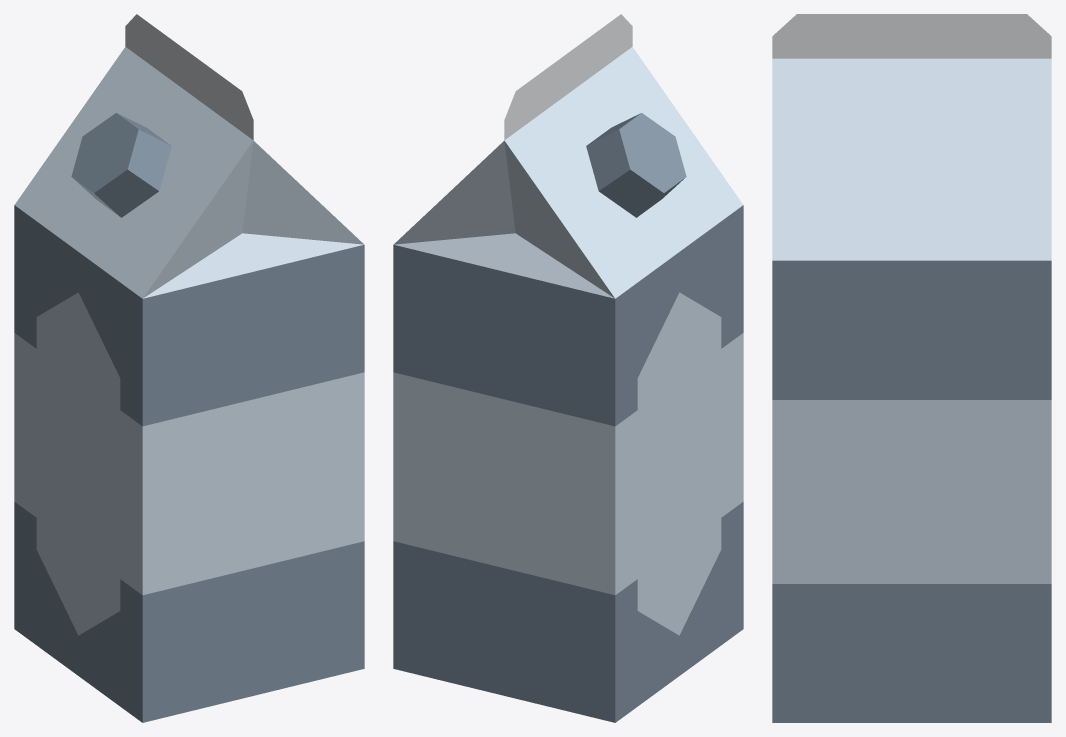
Rendered from Carton.fbx.
3 views of the same model, side by side, from view 1: azimuth 30°, elevation 25°; view 2: azimuth 150°, elevation 25°; view 3: azimuth 270°, elevation 25° (orthographic). The views are drawn at different scales.
Visible parts, largest first — view 1: mergedBlocks; view 2: mergedBlocks; view 3: mergedBlocks.
Boxes of the visible parts, <box> form: mergedBlocks: <box>14,14,364,722</box>; mergedBlocks: <box>393,14,743,722</box>; mergedBlocks: <box>772,14,1051,722</box>.
Bounding box in the file's own units: 2.3 × 5.91 × 2.3.
